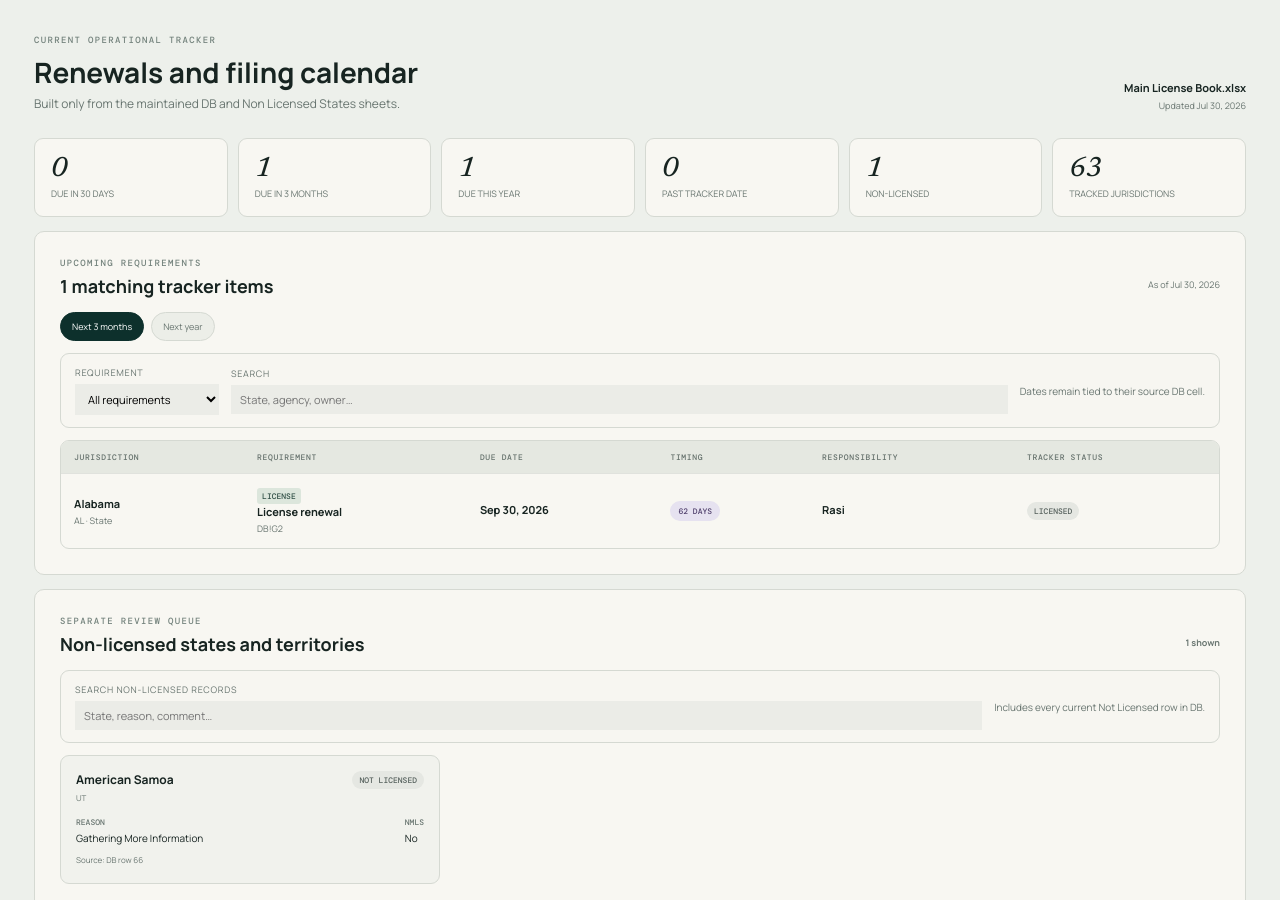
Test: filters the current tracker by time and keeps non-licensed states separate
Expected: the text "Alabama" is shown, [74,496,120,510]
Expected: the text "Alaska" is not shown
What coordinates should you click on to do the following:
click the button "Next year"
I would click on:
 (183, 326)
Its box is [151,312,214,341].
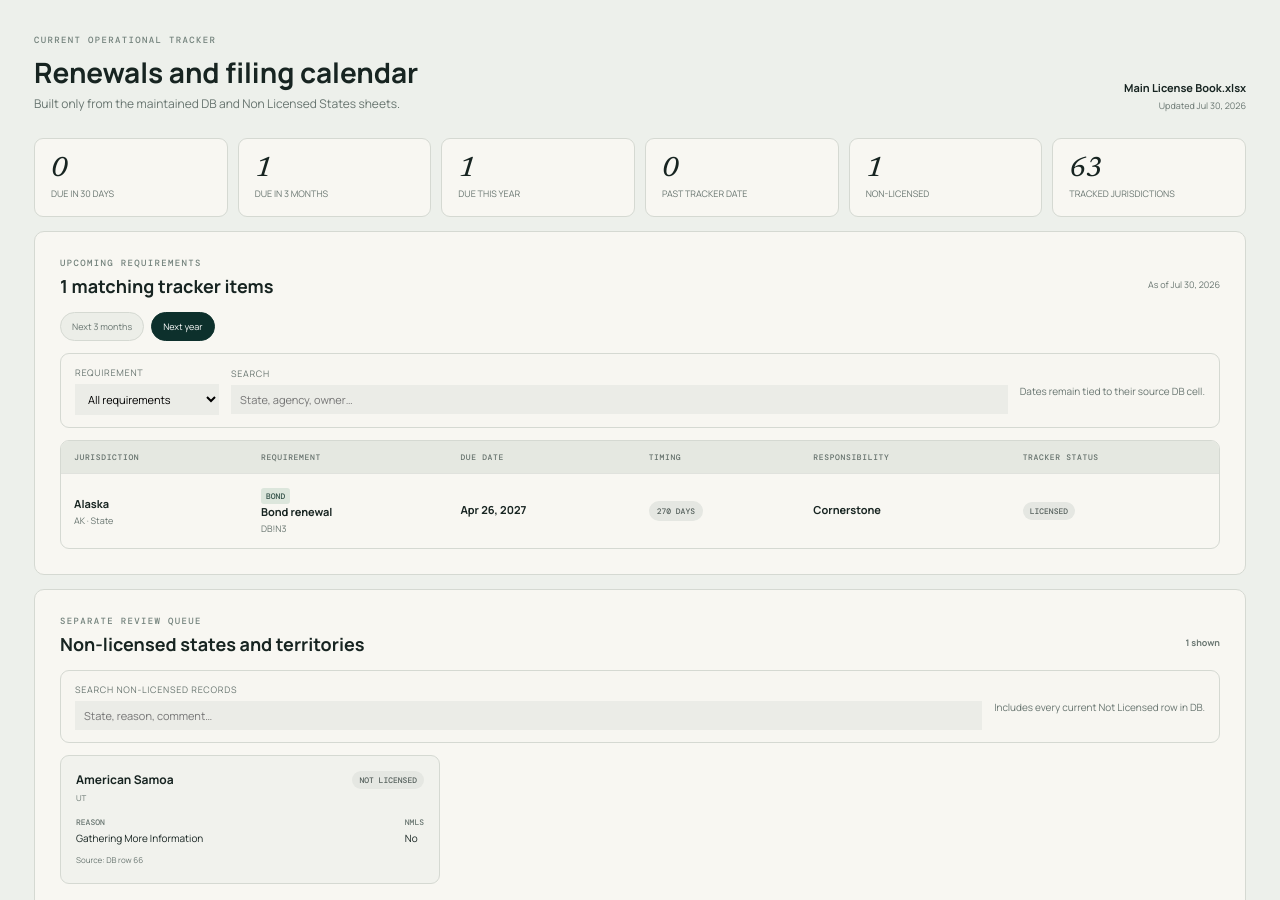
Result: the text "Alaska" is shown at [74,496,109,510]
Result: the text "Alabama" is gone
